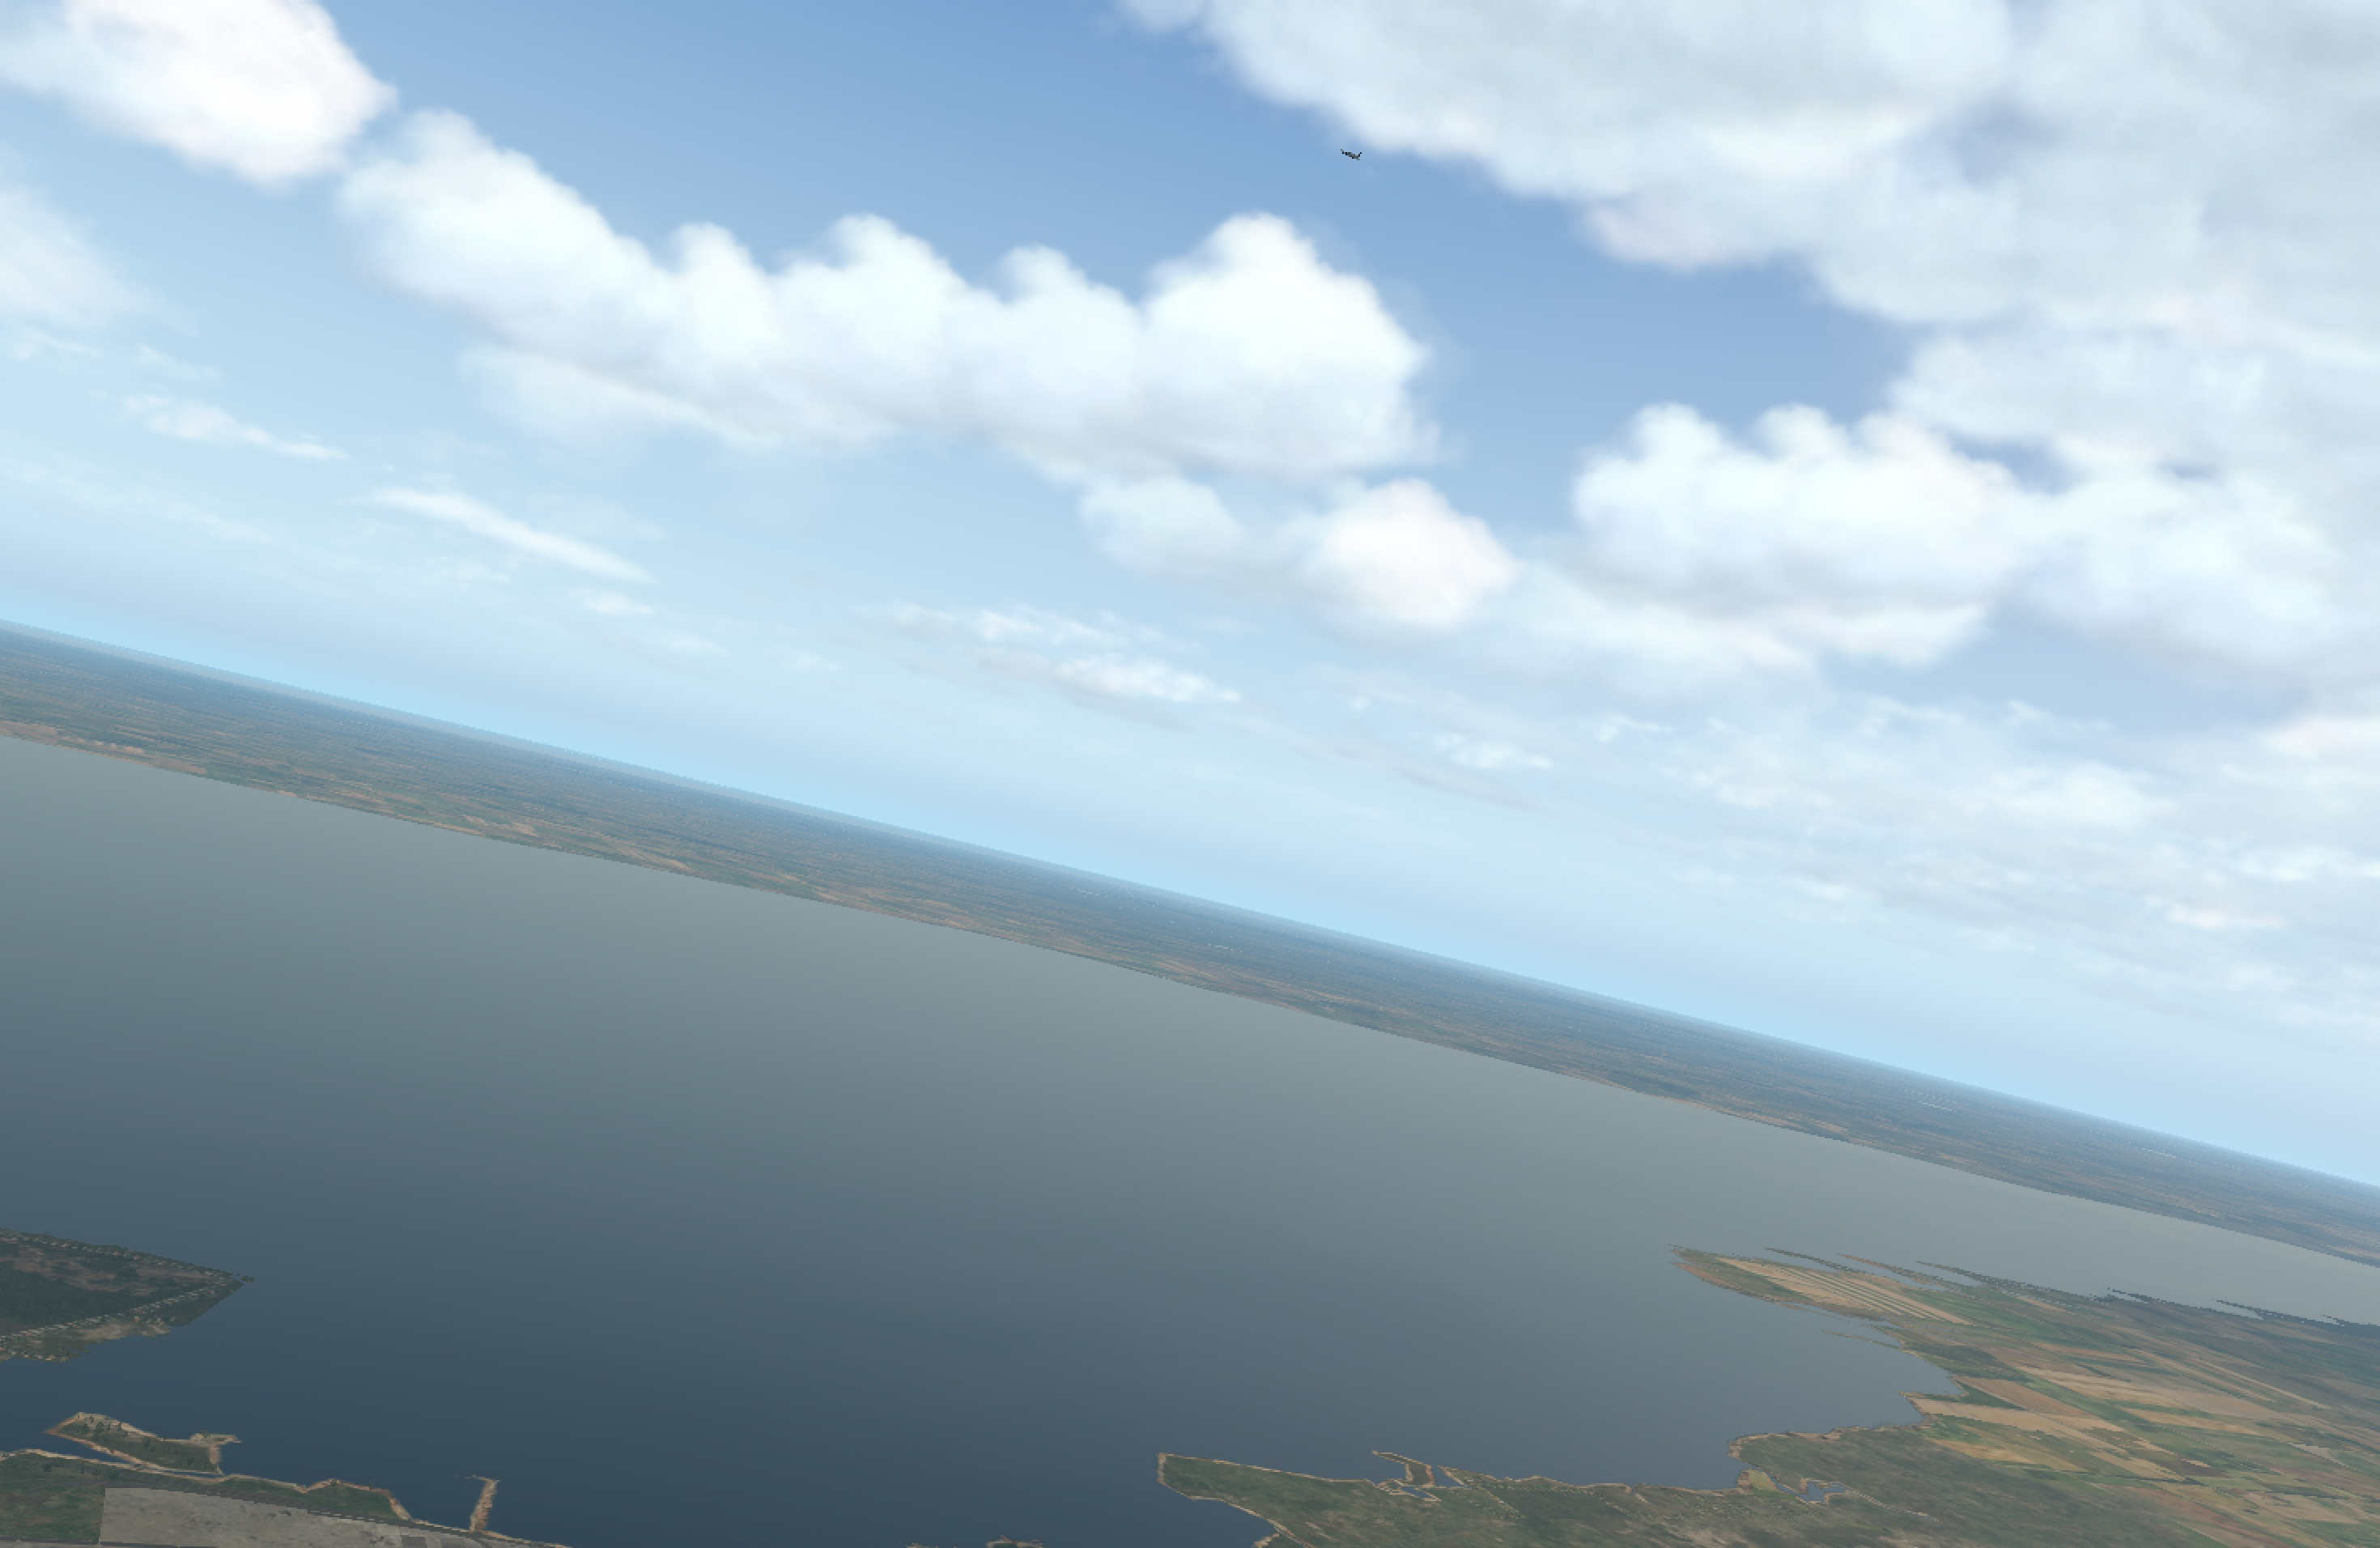aircraft: (1332, 149, 1365, 163)
